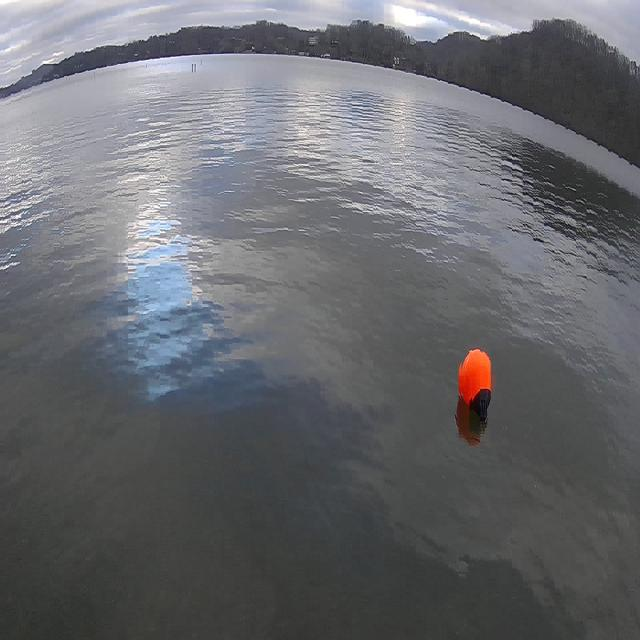Buoy: (453, 340, 501, 425)
